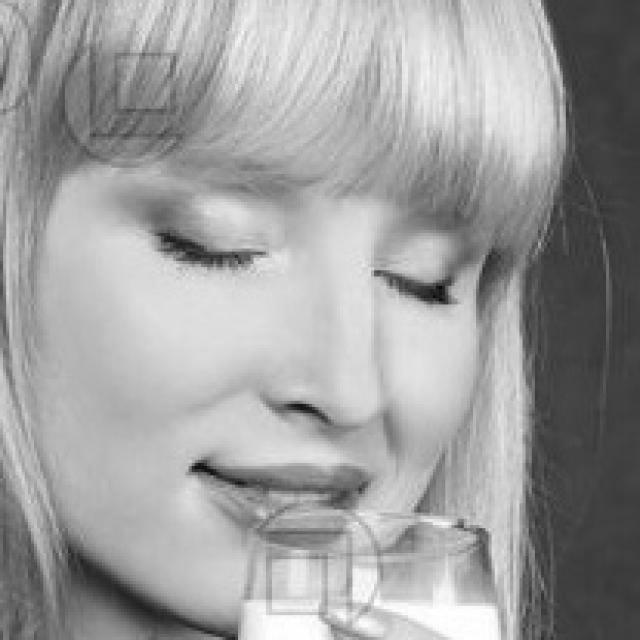real: (46, 86, 546, 598), (137, 212, 484, 310)
